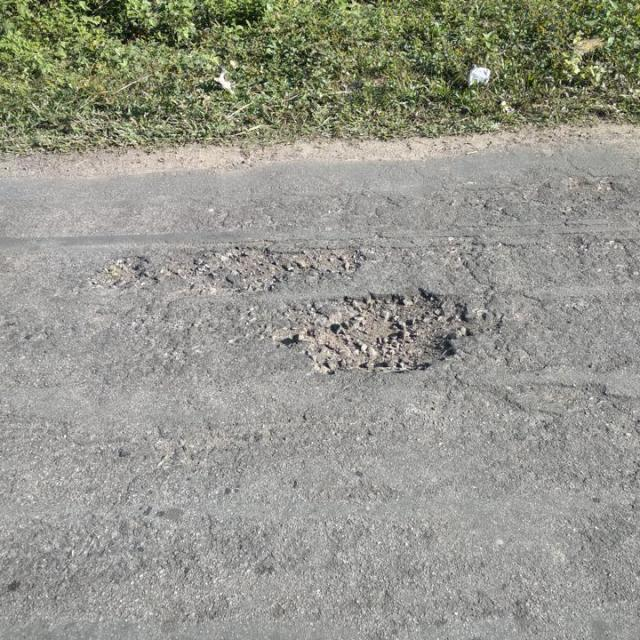Pothole: (289, 286, 481, 377), (175, 242, 370, 294), (85, 253, 164, 296)
